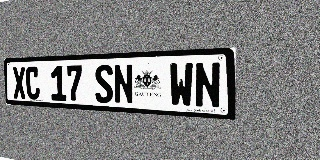1: (50, 66, 66, 101)
7: (66, 65, 83, 102)
C: (25, 66, 40, 100)
N: (194, 62, 221, 109), (113, 64, 134, 105)
S: (94, 64, 114, 104)
W: (169, 62, 194, 108)
X: (12, 67, 26, 99)
